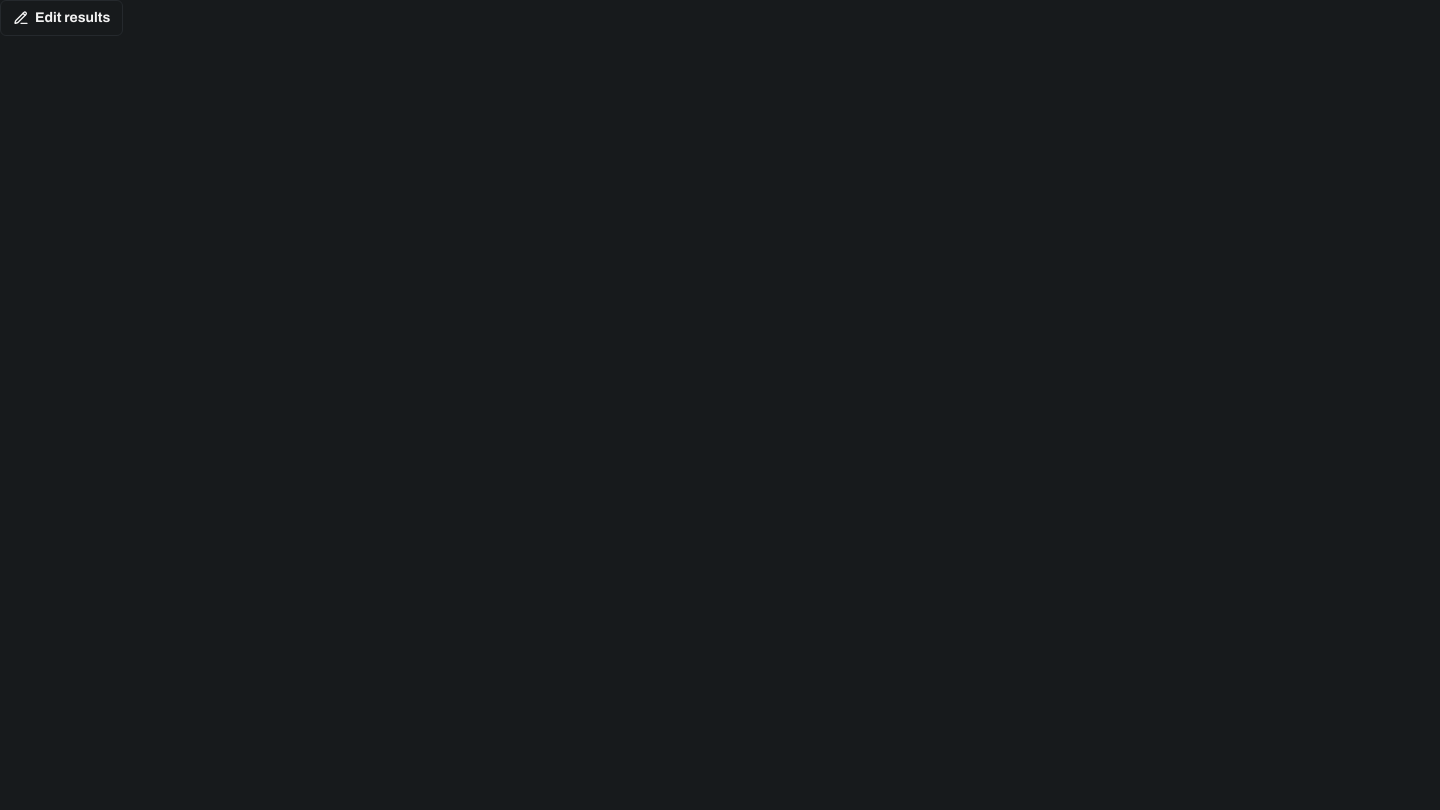
it: the results editor › warns while the clock runs, and about busts with no hitman
The width and height of the screenshot is (1440, 810).
Click the button "Edit results": (62, 18) left=0, top=0, right=123, bottom=36
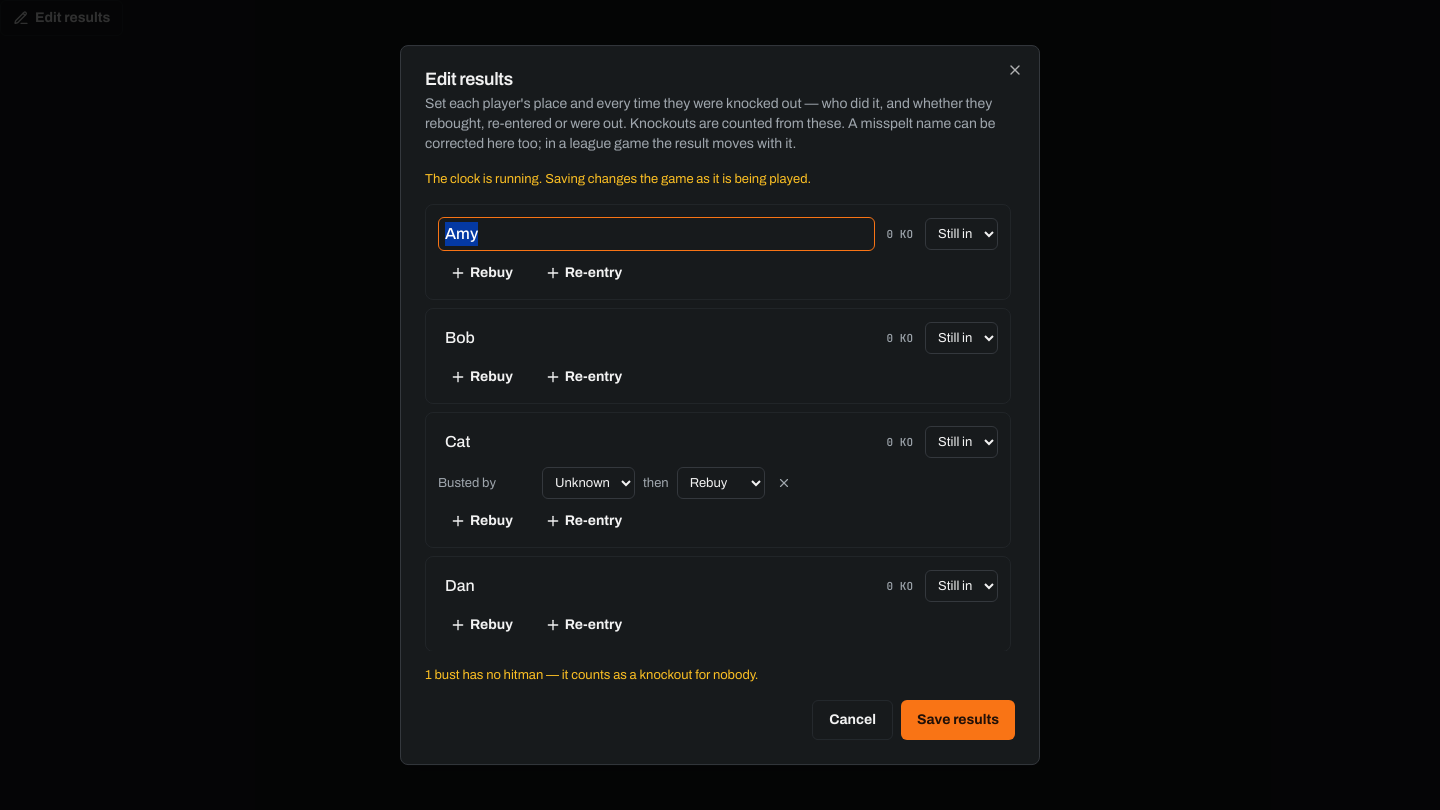
Expected: the text "clock is running" is shown, left=425, top=172, right=811, bottom=186
Expected: the list item "1 bust has no hitman — it counts as a knockout for nobody." is shown, left=425, top=668, right=758, bottom=682
